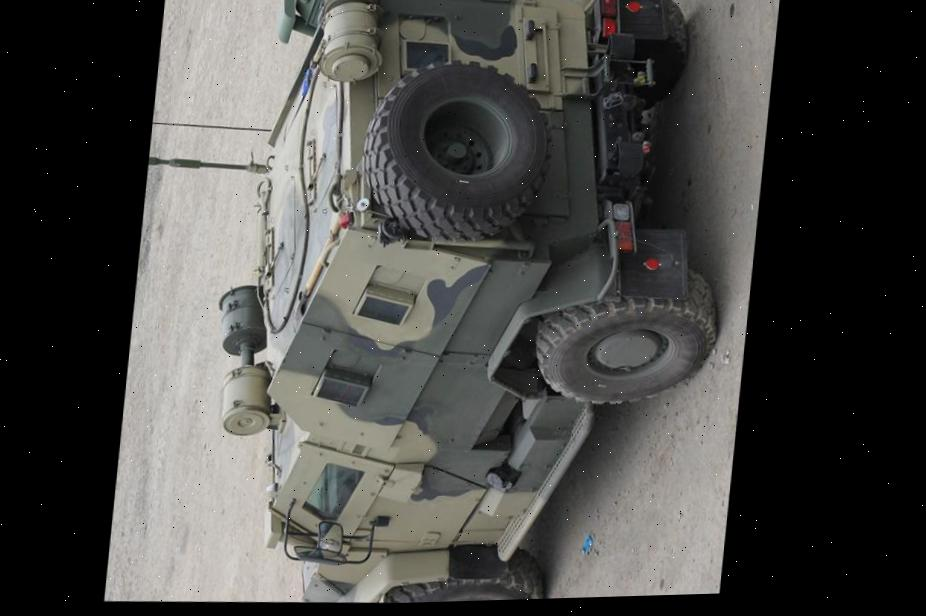armored_car: (103, 0, 755, 612), (258, 0, 696, 59)
